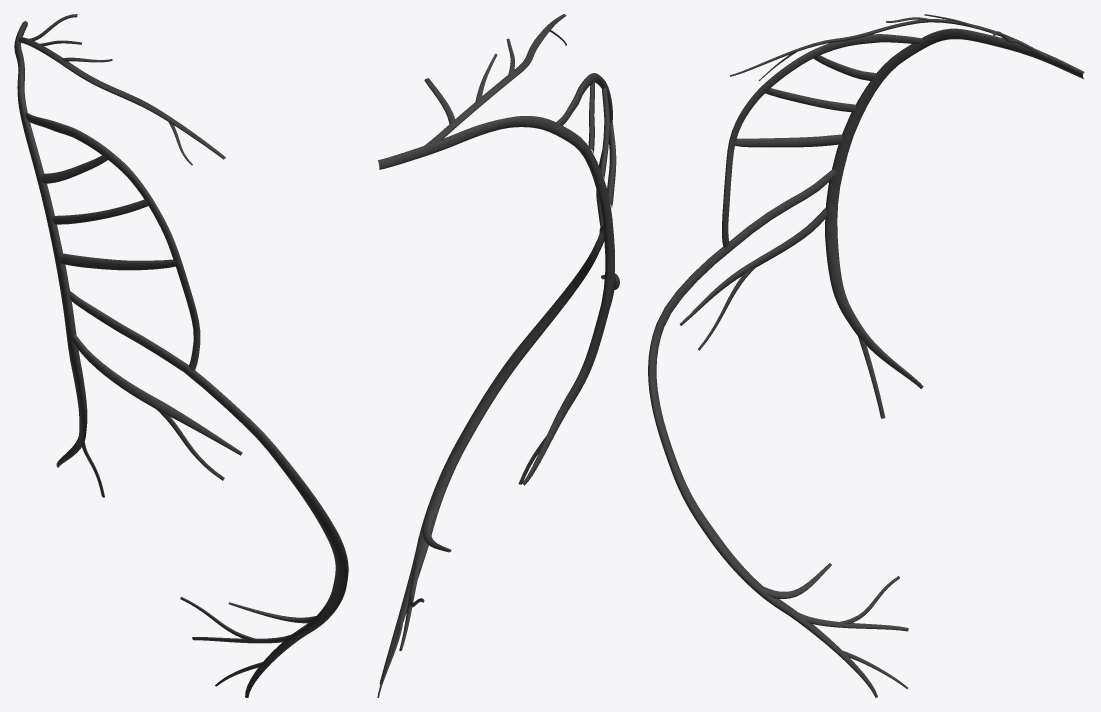
File: N_7_facial_auriculopalpebral.glb
The picture shows the model from 3 angles, left to right: view 1: azimuth 30°, elevation 25°; view 2: azimuth 150°, elevation 25°; view 3: azimuth 270°, elevation 25°; orthographic projection. The views are drawn at different scales.
Parts seen in each view (by area): view 1: N_7_facial_auriculopalpebral; view 2: N_7_facial_auriculopalpebral; view 3: N_7_facial_auriculopalpebral.
Part boxes in pixels (bbox=[...]): N_7_facial_auriculopalpebral: bbox=[14, 14, 348, 697]; N_7_facial_auriculopalpebral: bbox=[377, 14, 619, 697]; N_7_facial_auriculopalpebral: bbox=[648, 14, 1084, 697].
Size of the model in its own units: 0.0199 by 0.0563 by 0.0361.
1 material, 1 textured.
